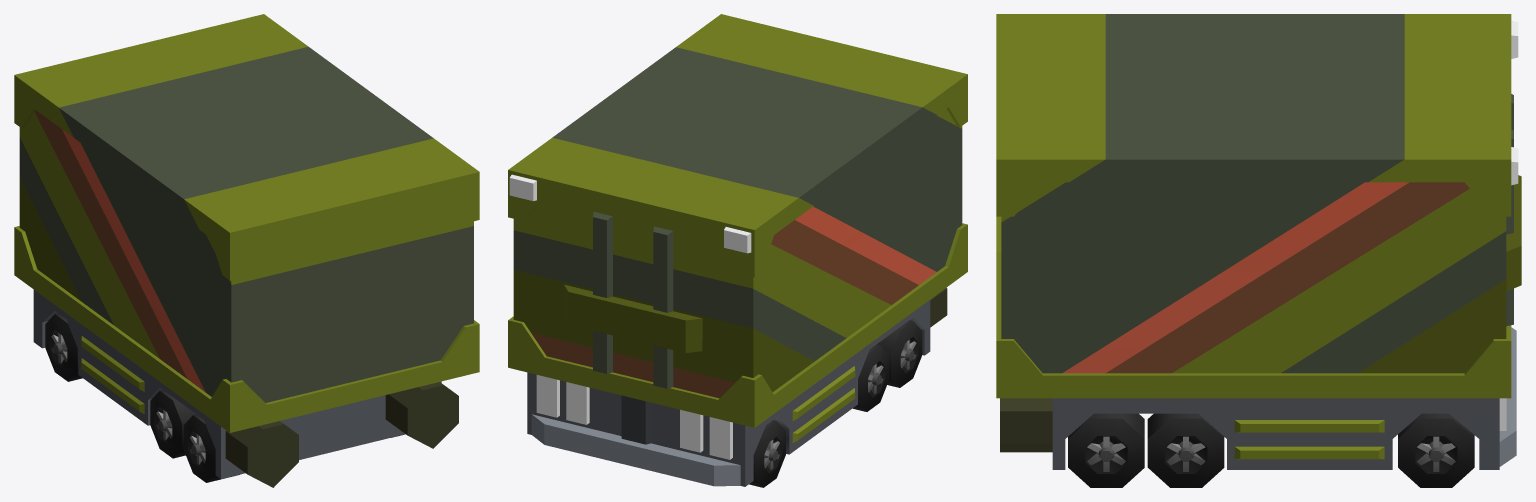
Rendered from cargo_03_D_2.fbx.
3 views of the same model, side by side, from view 1: azimuth 30°, elevation 25°; view 2: azimuth 150°, elevation 25°; view 3: azimuth 270°, elevation 25° (orthographic). The views are drawn at different scales.
Parts seen in each view (by area): view 1: cargo_03_D_2; view 2: cargo_03_D_2; view 3: cargo_03_D_2.
Boxes of the visible parts, left/top/right/bottom form: cargo_03_D_2: left=14, top=14, right=479, bottom=487; cargo_03_D_2: left=508, top=14, right=967, bottom=487; cargo_03_D_2: left=996, top=14, right=1521, bottom=487.
Bounding box in the file's own units: 14.02 × 15.18 × 21.4.
